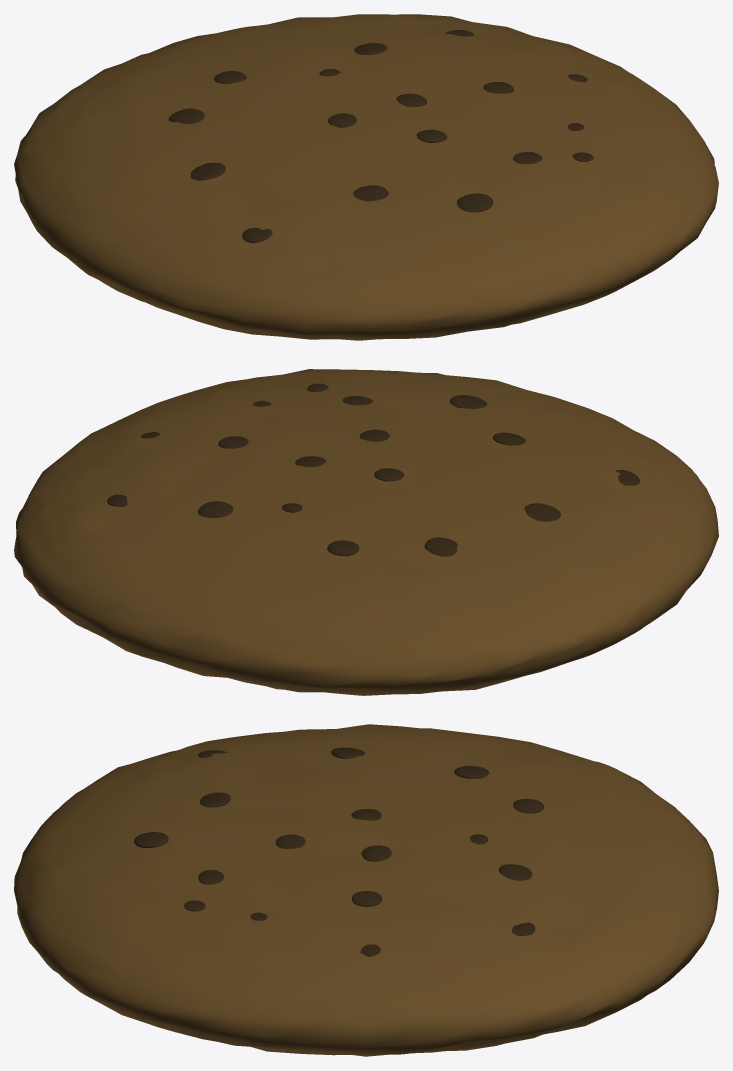
The model's file is Arena_Cookie_02.fbx.
The picture shows the model from 3 angles, top to bottom: view 1: azimuth 30°, elevation 25°; view 2: azimuth 150°, elevation 25°; view 3: azimuth 270°, elevation 25°; orthographic projection. The views are drawn at different scales.
Parts seen in each view (by area): view 1: Arena_Cookie_Base, Arena_Cookie_Cookies; view 2: Arena_Cookie_Base, Arena_Cookie_Cookies; view 3: Arena_Cookie_Base, Arena_Cookie_Cookies.
Part boxes in pixels (<box>): Arena_Cookie_Base: <box>14,14,718,340</box>; Arena_Cookie_Cookies: <box>168,30,593,242</box>; Arena_Cookie_Base: <box>14,369,718,695</box>; Arena_Cookie_Cookies: <box>107,383,639,556</box>; Arena_Cookie_Base: <box>14,724,718,1056</box>; Arena_Cookie_Cookies: <box>134,747,543,956</box>.
Size of the model in its own units: 6334 by 1318 by 6349.
